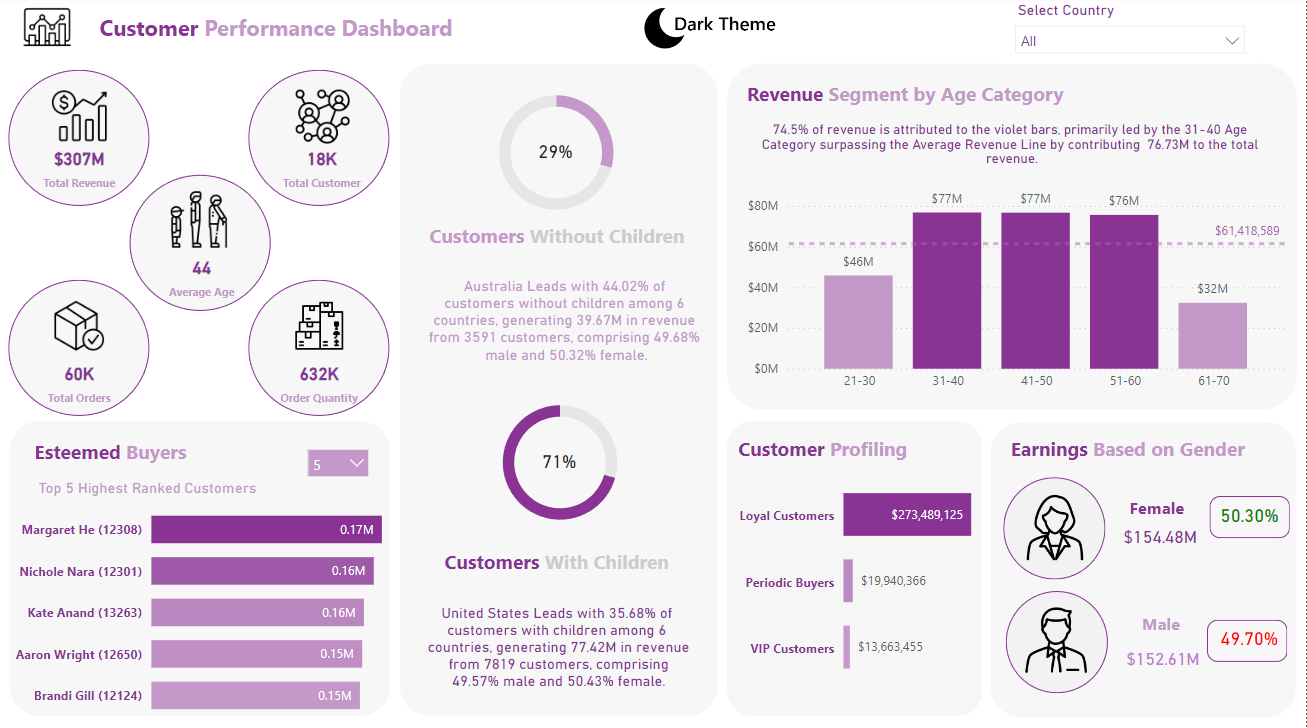

The page's visual inventory and layout, read from the dashboard file:
{"tool":"powerbi","page":{"name":"Customer Report","canvas":[1280,720],"ordinal":0},"visuals":[{"type":"shape","box":[12.5,416.2,372.5,288.8],"z":0},{"type":"shape","box":[393.9,66.4,311.6,639.1],"z":1000},{"type":"shape","box":[713.8,66.2,557.5,338.8],"z":2000},{"type":"shape","box":[713.8,416.2,250,288.8],"z":3000},{"type":"shape","box":[972.4,417,298.7,288.6],"z":4000},{"type":"donutChart","fields":{"Y":["Measures_Table.Customer Without Children Revenue %","Measures_Table.Customer With Children Revenue %"]},"box":[458.8,78.8,177.5,150],"z":5000},{"type":"card","fields":{"Values":["Measures_Table.Customer Without Children Revenue %"]},"box":[520,130,53.8,46.2],"z":6000},{"type":"donutChart","fields":{"Y":["Measures_Table.Customer Without Children Revenue %","Measures_Table.Customer With Children Revenue %"]},"box":[462.5,381.2,177.5,150],"z":7000},{"type":"card","fields":{"Values":["Measures_Table.Customer With Children Revenue %"]},"box":[523.8,432.5,53.8,46.2],"z":8000},{"type":"textbox","box":[418.8,216.2,272.5,40],"z":9000},{"type":"textbox","box":[432.5,535,248.8,40],"z":10000},{"type":"card","fields":{"Values":["Measures_Table.Caption"]},"box":[410,261.2,295,110],"z":11000},{"type":"card","fields":{"Values":["Measures_Table.Customer With Children Caption"]},"box":[408.8,581.2,282.5,111.2],"z":12000},{"type":"clusteredColumnChart","fields":{"Category":["DimCustomer.AgeCategory"],"Y":["Measures_Table.Total Revenue"]},"box":[728.8,176.2,536.2,218.8],"z":13000},{"type":"card","fields":{"Values":["Measures_Table.Avg Caption"]},"box":[713.8,106.2,557.5,80],"z":14000},{"type":"textbox","box":[728.8,78.8,347.5,40],"z":15000},{"type":"clusteredBarChart","fields":{"Category":["DimCustomer.Customer Type"],"Y":["Sum(DimCustomer.Total Revenue Generated)"]},"box":[720,447.5,296.2,245],"z":16000},{"type":"textbox","box":[720.2,425.5,199.3,39.1],"z":17000},{"type":"card","fields":{"Values":["Measures_Table.Male Revenue %"]},"box":[1183.5,607.1,83.5,45.9],"z":18000},{"type":"card","fields":{"Values":["Measures_Table.Female Revenue %"]},"box":[1178.8,483.5,92.9,51.8],"z":19000},{"type":"textbox","box":[1103.5,484,73.8,42.5],"z":20000},{"type":"textbox","box":[1115.1,598.5,61.1,37.9],"z":21000},{"type":"card","fields":{"Values":["Measures_Table.Male Revenue"]},"box":[1096,630.2,90,38.8],"z":22000},{"type":"card","fields":{"Values":["Measures_Table.Female Revenue"]},"box":[1097.2,509,82.5,42.5],"z":23000},{"type":"textbox","box":[986.8,425.6,278.5,40.4],"z":24000},{"type":"shape","box":[11.2,72,138.2,133.3],"z":25000},{"type":"shape","box":[246,277.5,138.2,133.3],"z":26000},{"type":"shape","box":[246,72,138.2,133.3],"z":27000},{"type":"shape","box":[11.2,277.5,138.2,133.3],"z":28000},{"type":"shape","box":[129.8,174.8,138.2,133.3],"z":29000},{"type":"slicer","fields":{"Values":["Top Customers.Top Customers"]},"box":[292.9,432.8,80.8,50.5],"z":30000},{"type":"clusteredBarChart","fields":{"Category":["DimCustomer.Unique Customer Full Name"],"Y":["Measures_Table.Top Customers"]},"box":[12.5,478.8,396.2,241.2],"z":31000},{"type":"shape","box":[984.7,470.6,100,100],"z":32000},{"type":"shape","box":[987.1,582.4,100,100],"z":33000},{"type":"shape","box":[1186.2,488.8,78.8,41.2],"z":34000},{"type":"shape","box":[1183.8,610,78.8,41.2],"z":35000},{"type":"textbox","box":[31.2,428,180,41.2],"z":36000},{"type":"card","fields":{"Values":["Measures_Table.Total Revenue"]},"box":[30.3,136,100,62.5],"z":37000},{"type":"card","fields":{"Values":["Measures_Table.Total Orders"]},"box":[30.3,346,100,62.5],"z":38000},{"type":"card","fields":{"Values":["Measures_Table.Average Customer Age"]},"box":[150.3,242.3,100,62.5],"z":39000},{"type":"card","fields":{"Values":["Measures_Table.Total Customer"]},"box":[268,135.6,100.3,62.4],"z":40000},{"type":"card","fields":{"Values":["Measures_Table.Total Order Quantity"]},"box":[265.3,346,100,62.5],"z":41000},{"type":"card","fields":{"Values":["Measures_Table.Esteemed Buyers Caption"]},"box":[31.2,461.7,231.2,40],"z":42000},{"type":"image","box":[165.3,182.1,64.8,73.4],"z":43000},{"type":"image","box":[994.2,585.7,84.4,89.3],"z":44000},{"type":"image","box":[992.9,475.7,84.4,89.3],"z":45000},{"type":"image","box":[49.1,286,63.6,73.4],"z":46000},{"type":"image","box":[49.1,80.6,63.6,73.4],"z":47000},{"type":"image","box":[283.9,286,63.6,72.1],"z":48000},{"type":"image","box":[17.5,0,63.8,61.2],"z":49000},{"type":"textbox","box":[95,11.2,395,40],"z":50000},{"type":"slicer","fields":{"Values":["DimGeography.Country"]},"box":[985,0,245,66.2],"z":51000},{"type":"image","box":[287.5,82.5,62.5,72.5],"z":52000},{"type":"image","box":[628.8,5,152.5,51.2],"z":53000}]}

Visuals, with their boxes in screenshot pixels (x1, y1, x2, y2), scaled from the page's 1280x720 canvas onto the 1307x728 screenshot:
shape: rect(13, 421, 393, 713)
shape: rect(402, 67, 720, 713)
shape: rect(729, 67, 1298, 410)
shape: rect(729, 421, 984, 713)
shape: rect(993, 422, 1298, 713)
donutChart - Measures_Table.Customer Without Children Revenue % x Measures_Table.Customer With Children Revenue %: rect(468, 80, 650, 231)
card - Measures_Table.Customer Without Children Revenue %: rect(531, 131, 586, 178)
donutChart - Measures_Table.Customer Without Children Revenue % x Measures_Table.Customer With Children Revenue %: rect(472, 385, 654, 537)
card - Measures_Table.Customer With Children Revenue %: rect(535, 437, 590, 484)
textbox: rect(428, 219, 706, 259)
textbox: rect(442, 541, 696, 581)
card - Measures_Table.Caption: rect(419, 264, 720, 375)
card - Measures_Table.Customer With Children Caption: rect(417, 588, 706, 700)
clusteredColumnChart - DimCustomer.AgeCategory x Measures_Table.Total Revenue: rect(744, 178, 1292, 399)
card - Measures_Table.Avg Caption: rect(729, 107, 1298, 188)
textbox: rect(744, 80, 1099, 120)
clusteredBarChart - DimCustomer.Customer Type x Sum(DimCustomer.Total Revenue Generated): rect(735, 452, 1038, 700)
textbox: rect(735, 430, 939, 470)
card - Measures_Table.Male Revenue %: rect(1208, 614, 1294, 660)
card - Measures_Table.Female Revenue %: rect(1204, 489, 1299, 541)
textbox: rect(1127, 489, 1202, 532)
textbox: rect(1139, 605, 1201, 643)
card - Measures_Table.Male Revenue: rect(1119, 637, 1211, 676)
card - Measures_Table.Female Revenue: rect(1120, 515, 1205, 558)
textbox: rect(1008, 430, 1292, 471)
shape: rect(11, 73, 153, 208)
shape: rect(251, 281, 392, 415)
shape: rect(251, 73, 392, 208)
shape: rect(11, 281, 153, 415)
shape: rect(133, 177, 274, 312)
slicer - Top Customers.Top Customers: rect(299, 438, 382, 489)
clusteredBarChart - DimCustomer.Unique Customer Full Name x Measures_Table.Top Customers: rect(13, 484, 417, 727)
shape: rect(1005, 476, 1108, 577)
shape: rect(1008, 589, 1110, 690)
shape: rect(1211, 494, 1292, 536)
shape: rect(1209, 617, 1289, 658)
textbox: rect(32, 433, 216, 474)
card - Measures_Table.Total Revenue: rect(31, 138, 133, 201)
card - Measures_Table.Total Orders: rect(31, 350, 133, 413)
card - Measures_Table.Average Customer Age: rect(153, 245, 256, 308)
card - Measures_Table.Total Customer: rect(274, 137, 376, 200)
card - Measures_Table.Total Order Quantity: rect(271, 350, 373, 413)
card - Measures_Table.Esteemed Buyers Caption: rect(32, 467, 268, 507)
image: rect(169, 184, 235, 258)
image: rect(1015, 592, 1101, 682)
image: rect(1014, 481, 1100, 571)
image: rect(50, 289, 115, 363)
image: rect(50, 81, 115, 156)
image: rect(290, 289, 355, 362)
image: rect(18, 0, 83, 62)
textbox: rect(97, 11, 500, 52)
slicer - DimGeography.Country: rect(1006, 0, 1256, 67)
image: rect(294, 83, 357, 157)
image: rect(642, 5, 798, 57)
